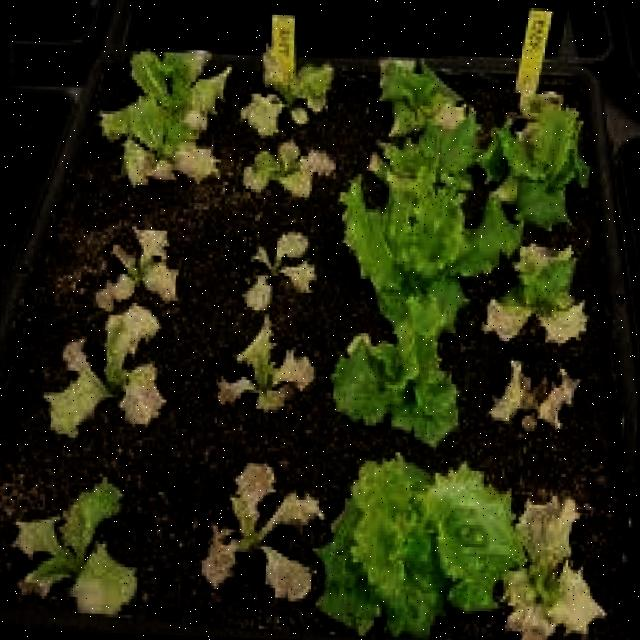Wilt_and_leaf_blight_on_lettuce: (43, 222, 178, 444), (110, 46, 226, 186), (504, 500, 601, 640), (492, 237, 585, 348)
